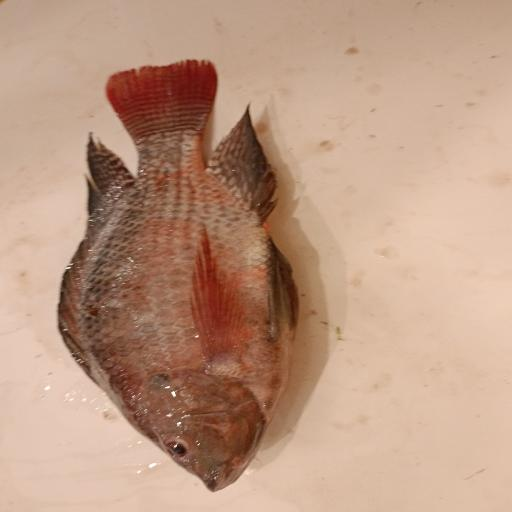Tilapia: (57, 59, 299, 492)
